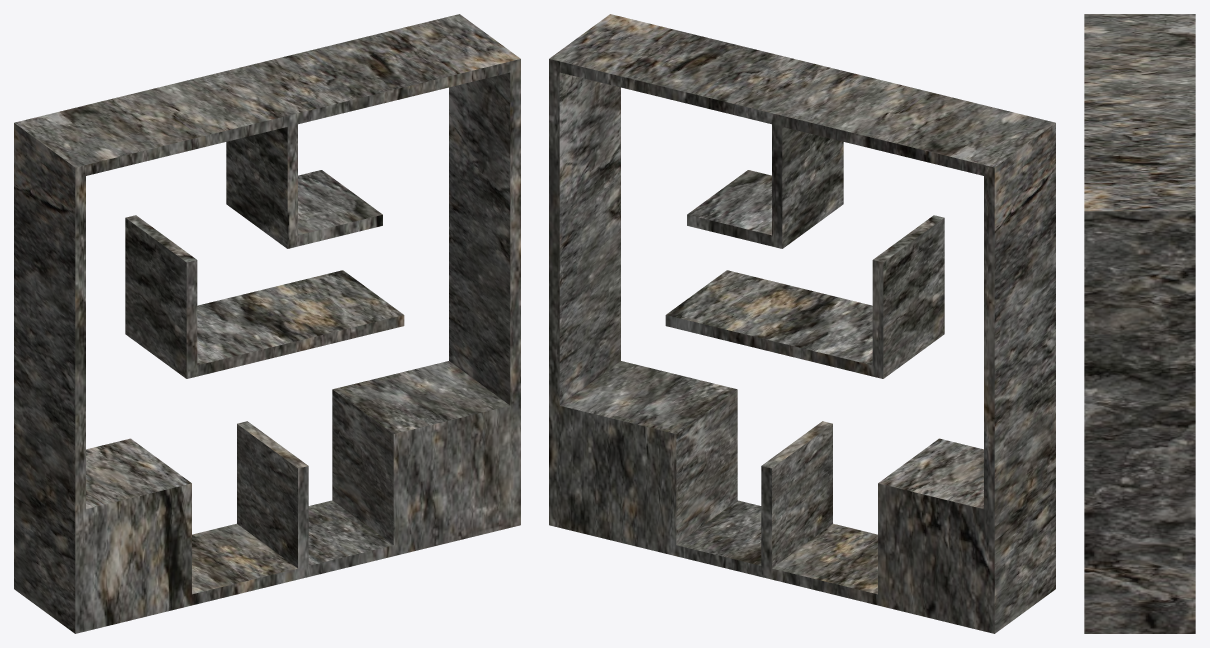
File: ClosedMaze.obj
The picture shows the model from 3 angles, left to right: view 1: azimuth 30°, elevation 25°; view 2: azimuth 150°, elevation 25°; view 3: azimuth 270°, elevation 25°; orthographic projection. The views are drawn at different scales.
Visible parts, largest first — view 1: Closed_Maze; view 2: Closed_Maze; view 3: Closed_Maze.
Part boxes in pixels (x1,y1,x2,y2): Closed_Maze: [14, 14, 520, 633]; Closed_Maze: [549, 14, 1055, 633]; Closed_Maze: [1084, 14, 1195, 633].
Size of the model in its own units: 4.2 by 4.2 by 1.
1 material, 1 textured.
